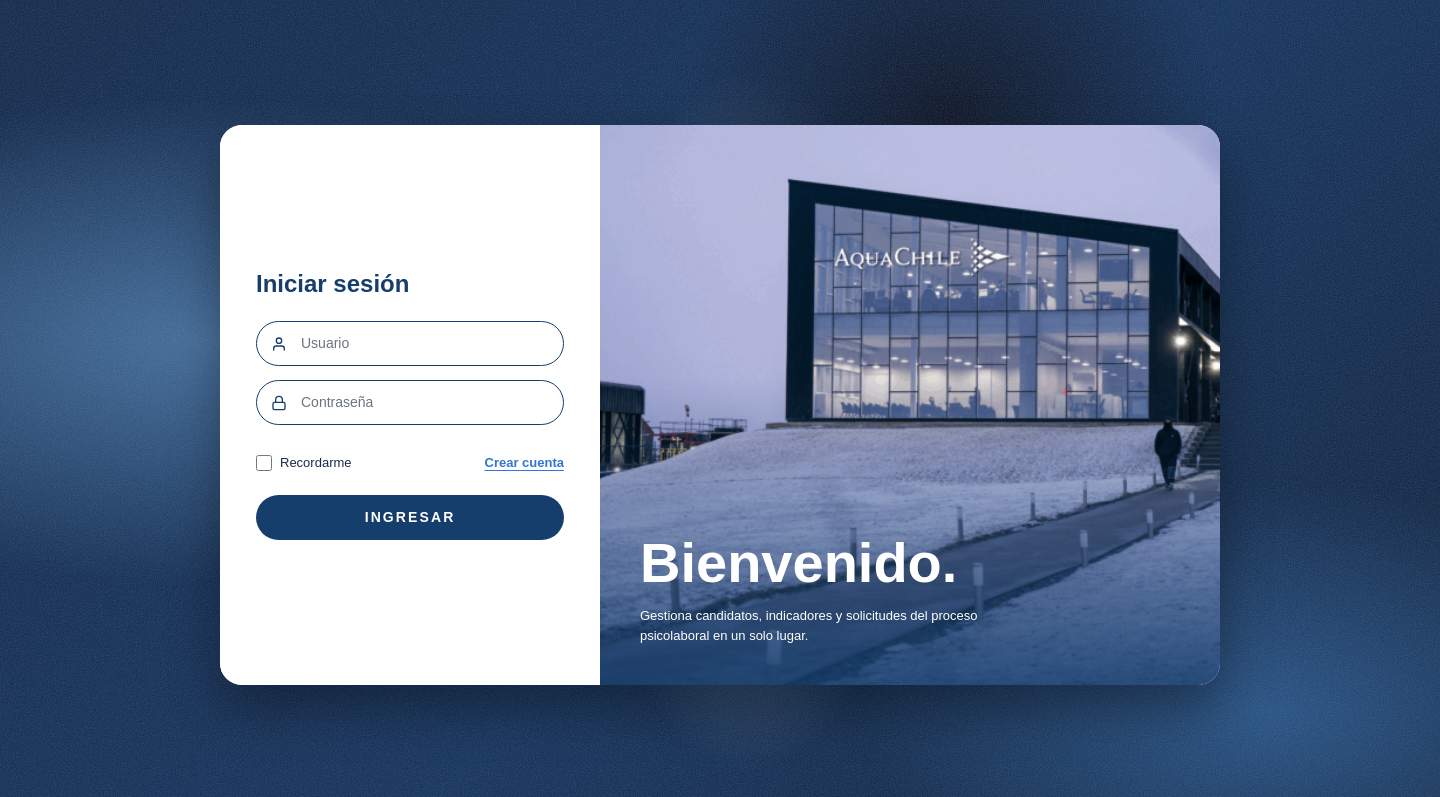
Test case: Navegación con React Router › el menú lateral cambia de sección
Type "admin" into the field labelled "Usuario". click: (432, 344)
box: [301,322,563,365]
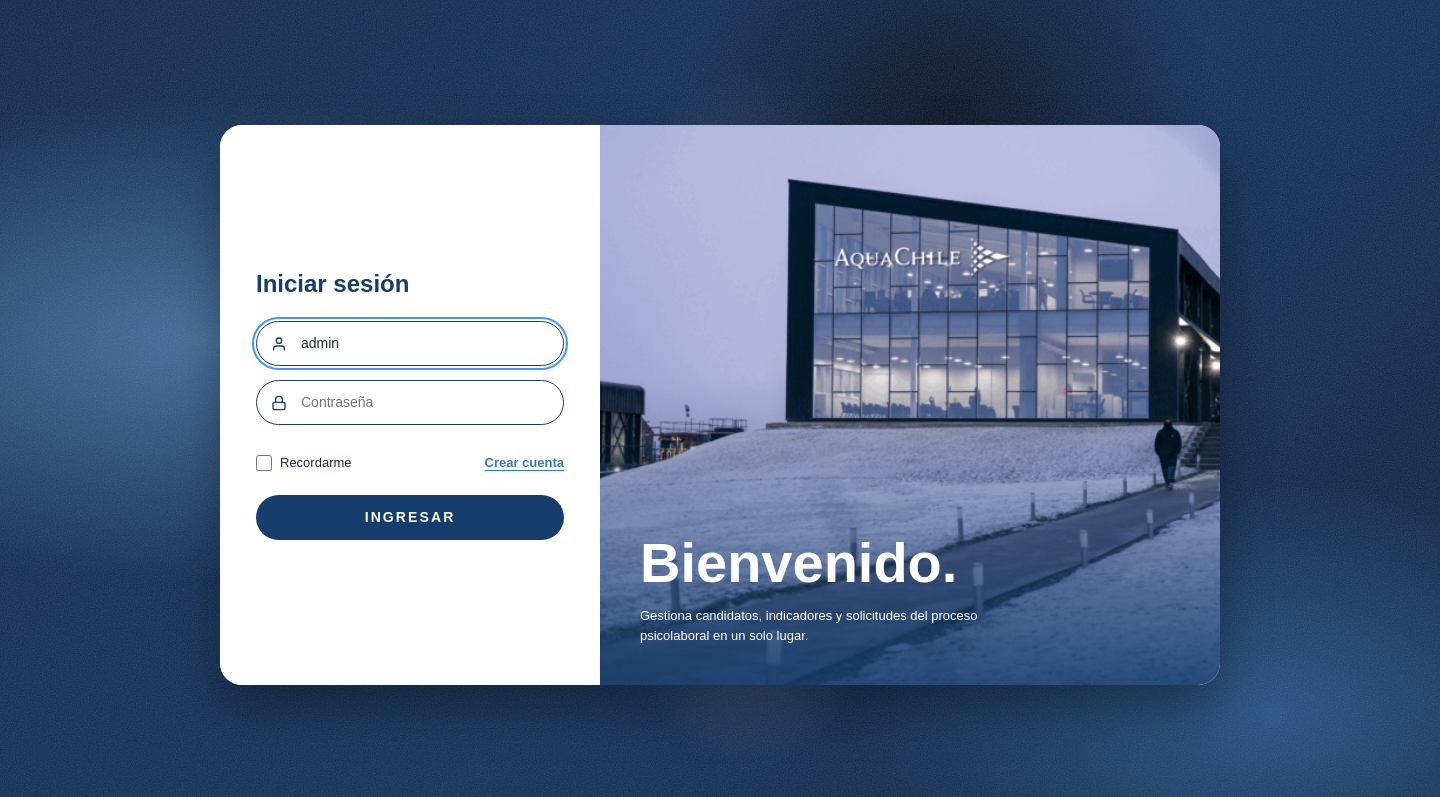
Type "admin123" into the password field labelled "Contraseña". click: (432, 403)
box: [301,381,563,424]
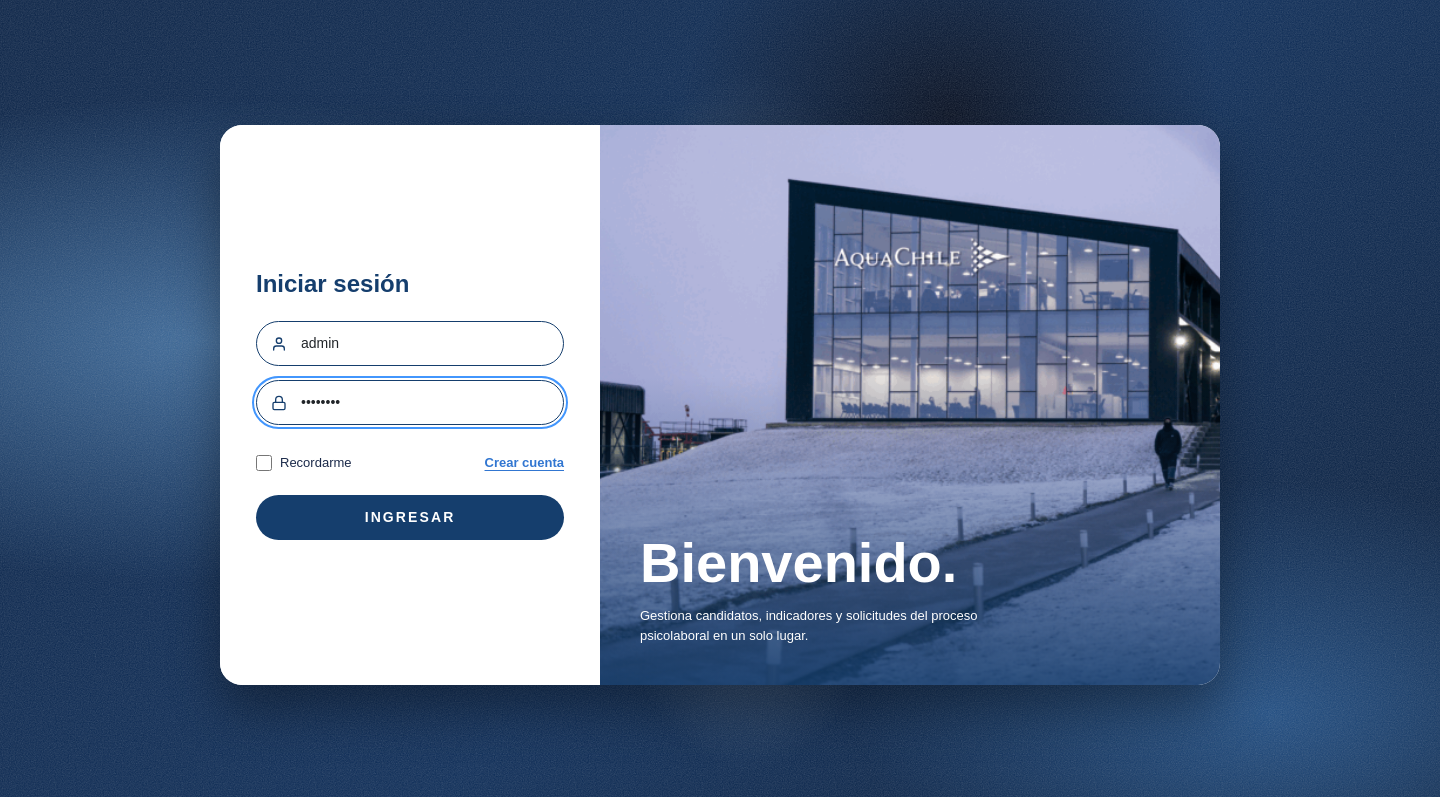
Click the button "INGRESAR". click: (410, 517)
box: [256,495,564,540]
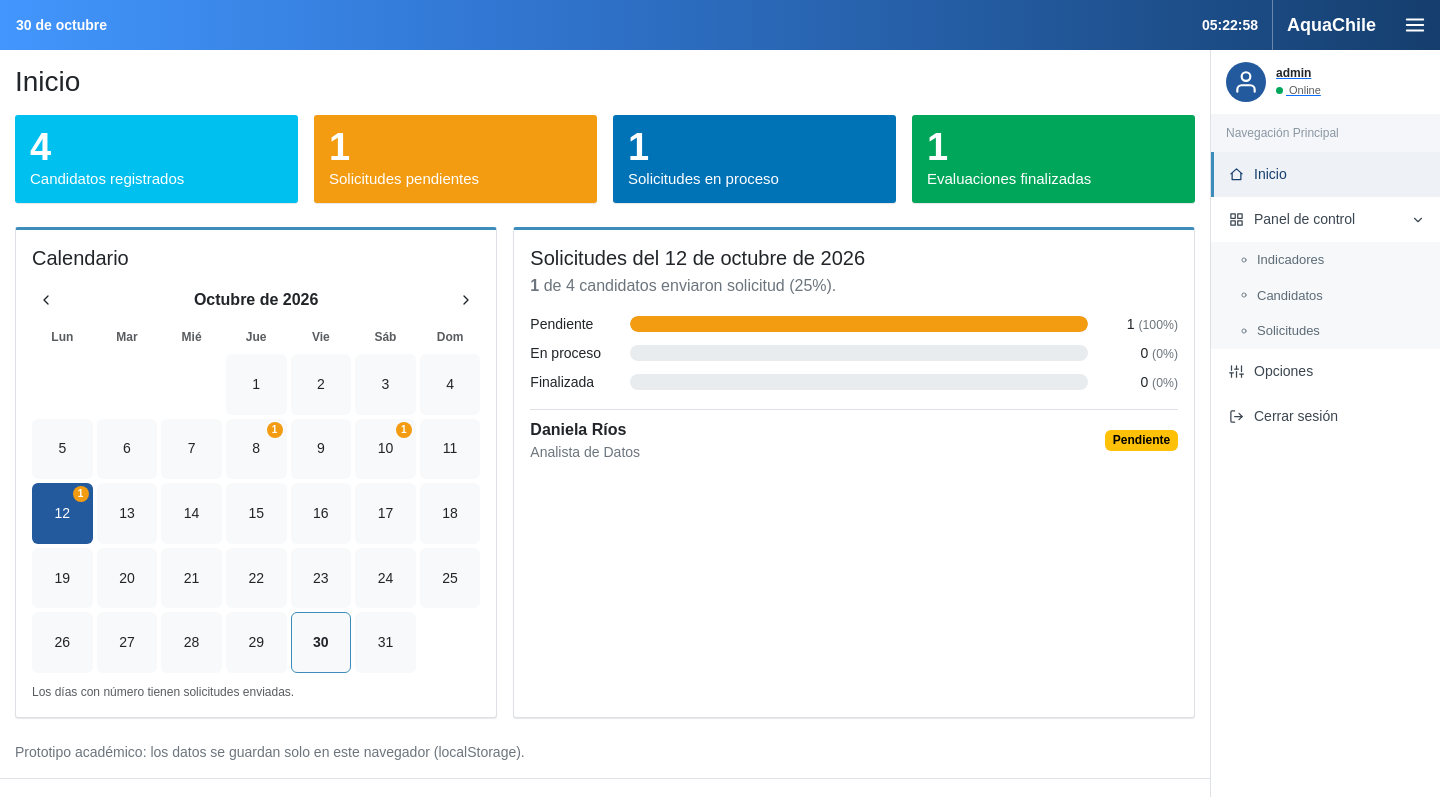
Click the link "Candidatos". click: (1281, 295)
box: [1239,288,1323,302]
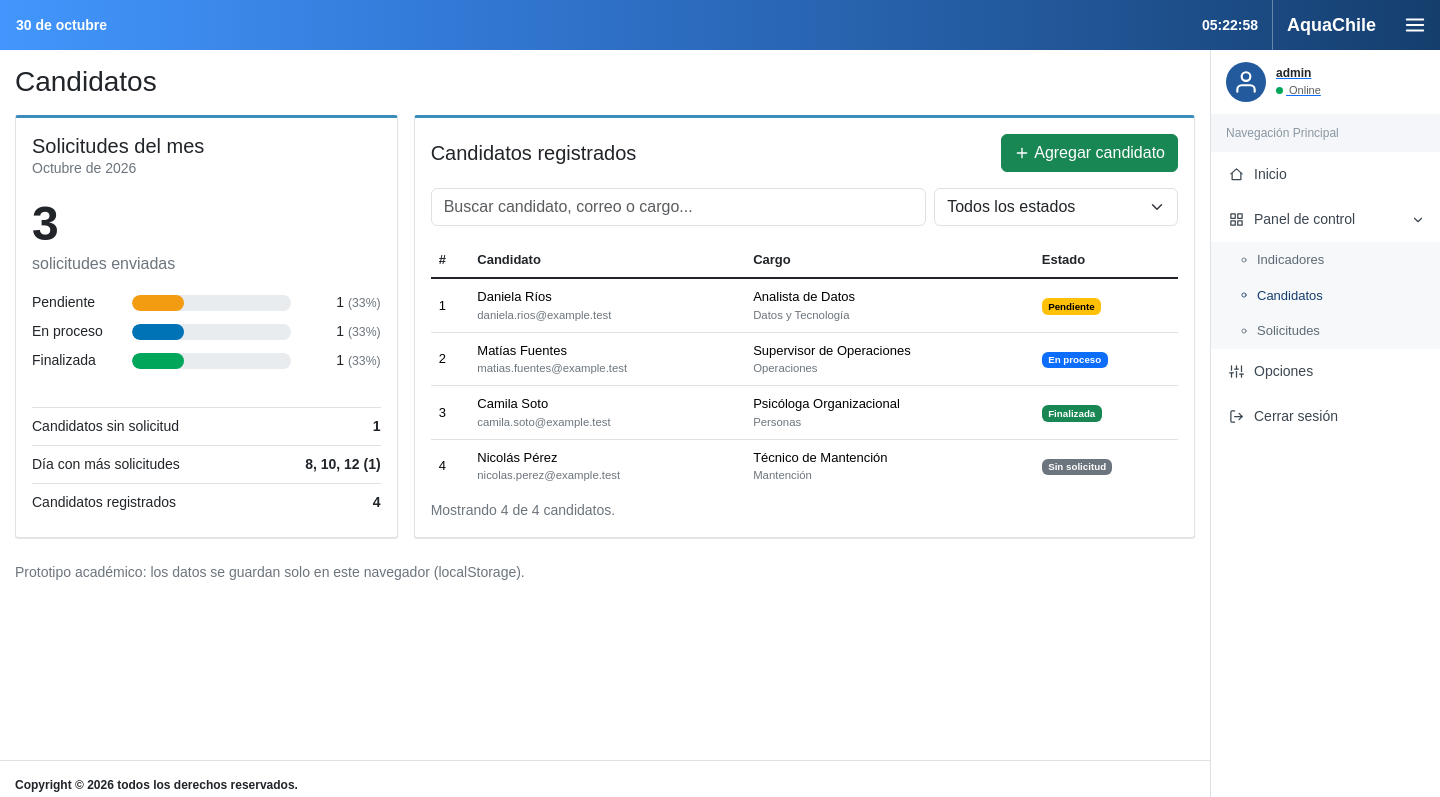
Check: the heading "Candidatos" is shown, box [15,66,157,97]
Click the link "Indicadores". click: (1282, 260)
box: [1239,252,1324,267]
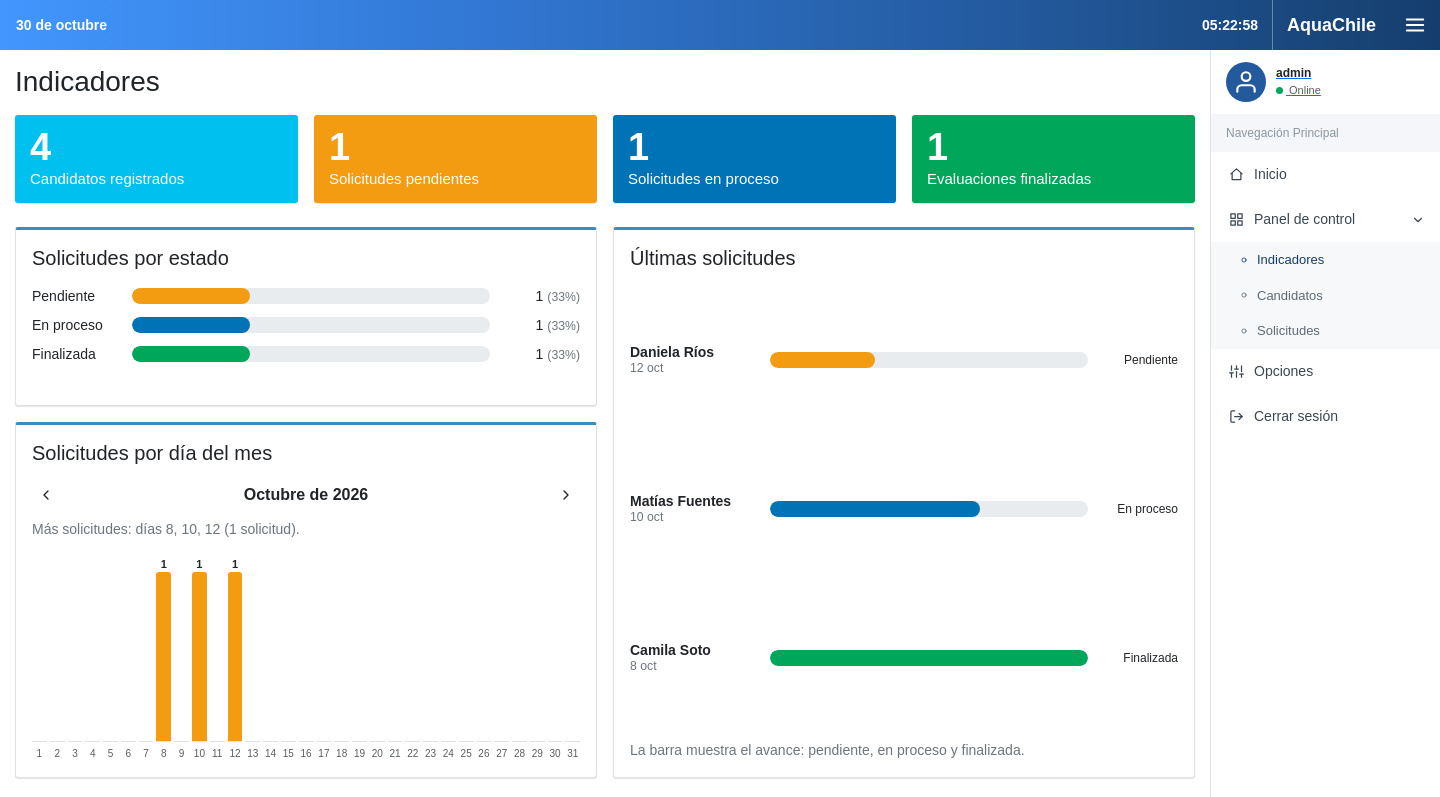
Check: the heading "Indicadores" is shown, box [15,66,160,97]
